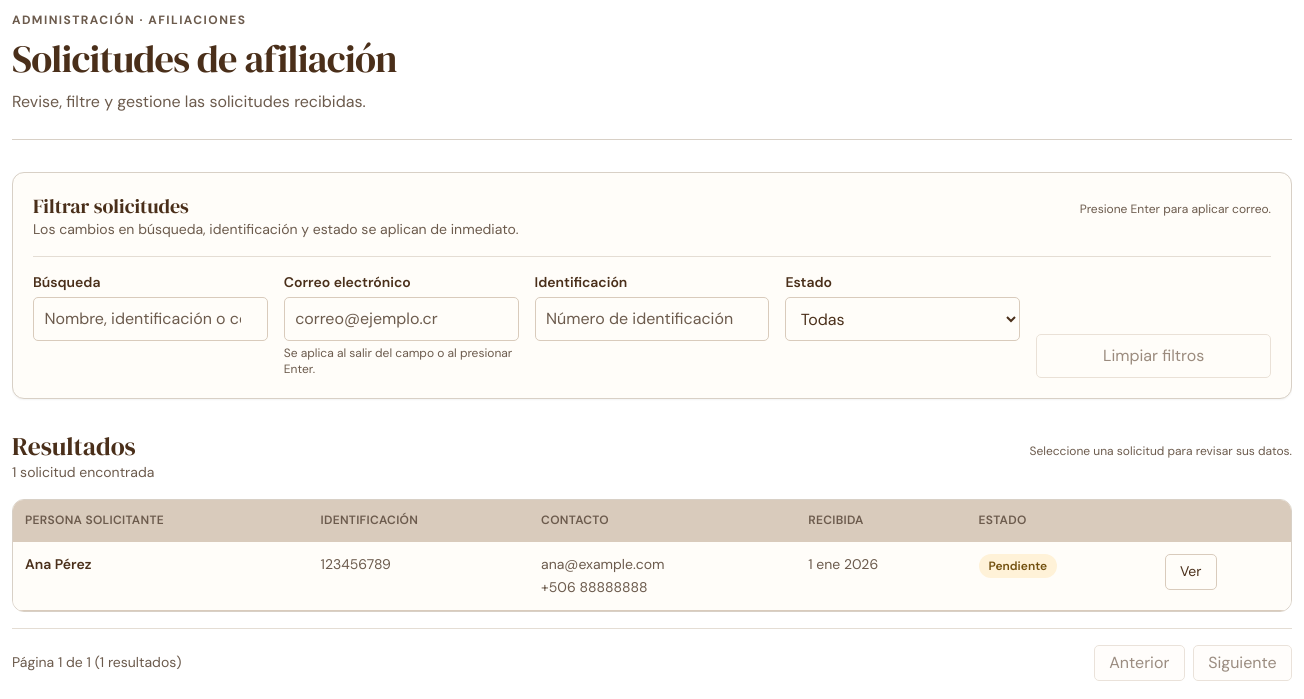
Scenario: AffiliateRequestsPage filters › makes active filters visible and resets query filters predictably
In the search field labelled "Búsqueda": (150, 318) [33,296,268,340], type "Ana"
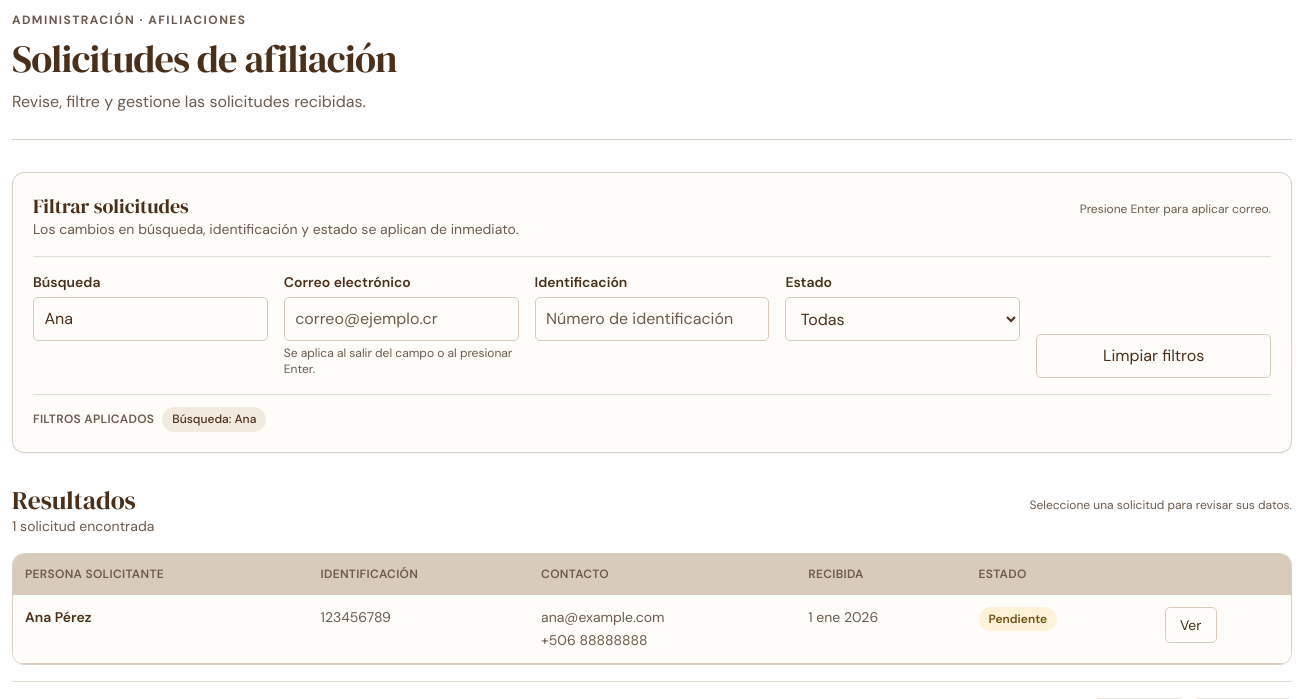
Select "Pendiente" in the dropdown labelled "Estado": (903, 318) [785,296,1020,340]
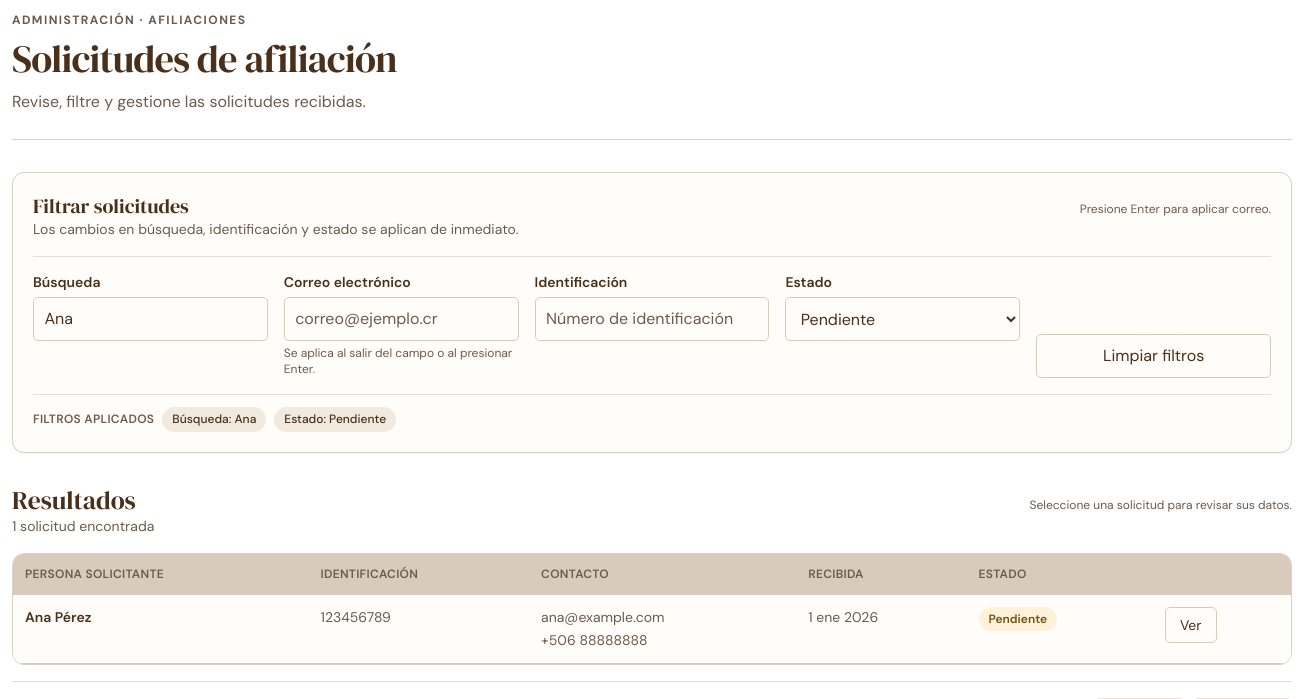
Now the text "Búsqueda: Ana" is shown, box [162,407,266,432]
Now the text "Estado: Pendiente" is shown, box [274,407,396,432]
Click the button "Limpiar filtros": (1154, 356) [1036,334,1271,378]
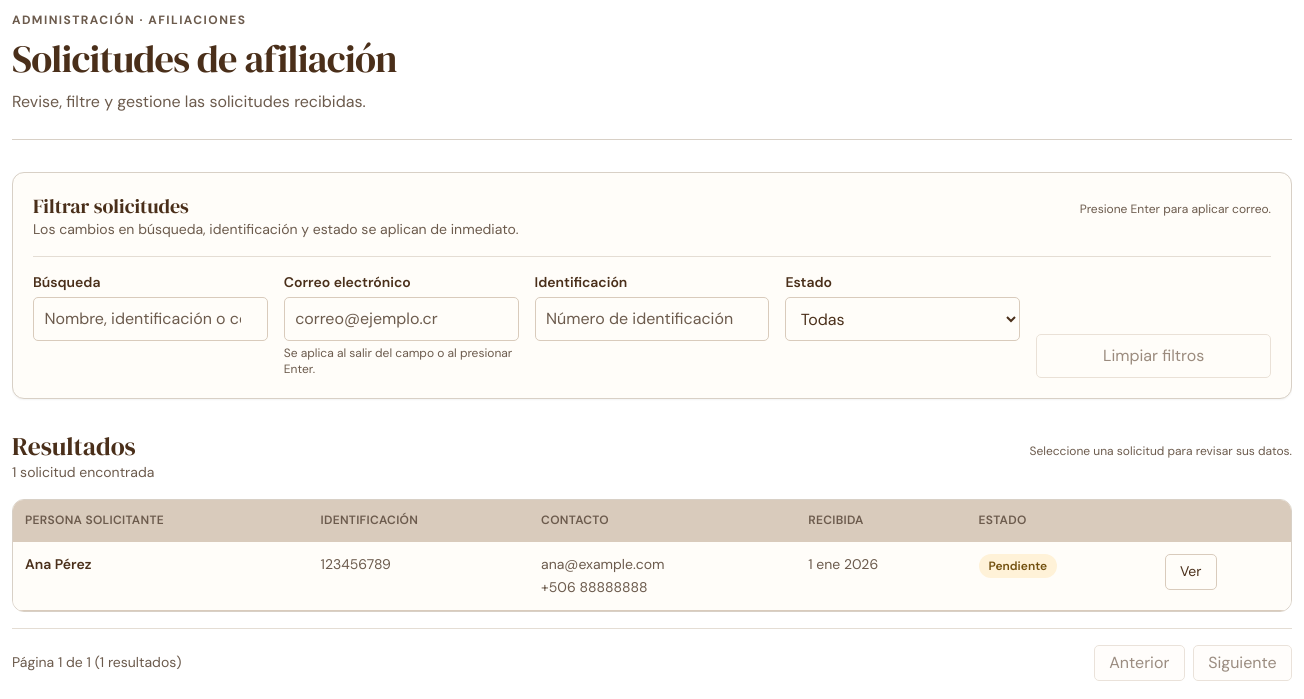
Now the text "Filtros aplicados" is gone
